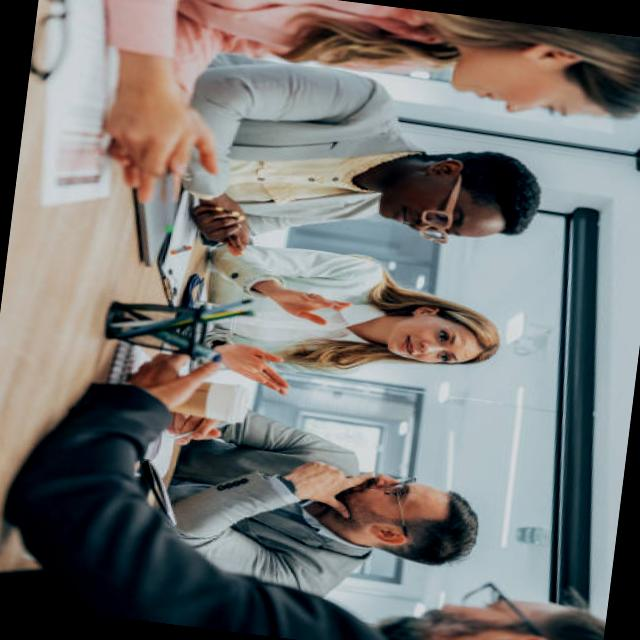Hand: (94, 74, 230, 190), (124, 344, 216, 414), (250, 278, 356, 332), (208, 339, 292, 398), (164, 409, 227, 446)
